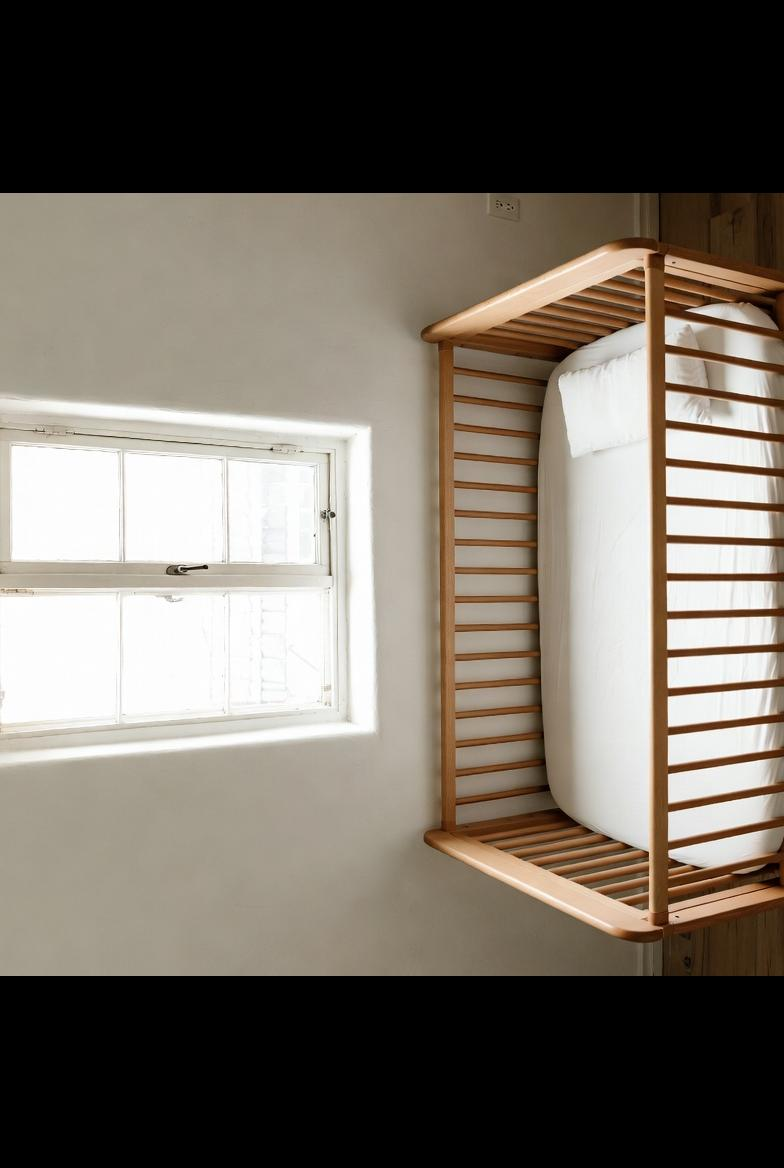crib: (403, 223, 784, 951)
